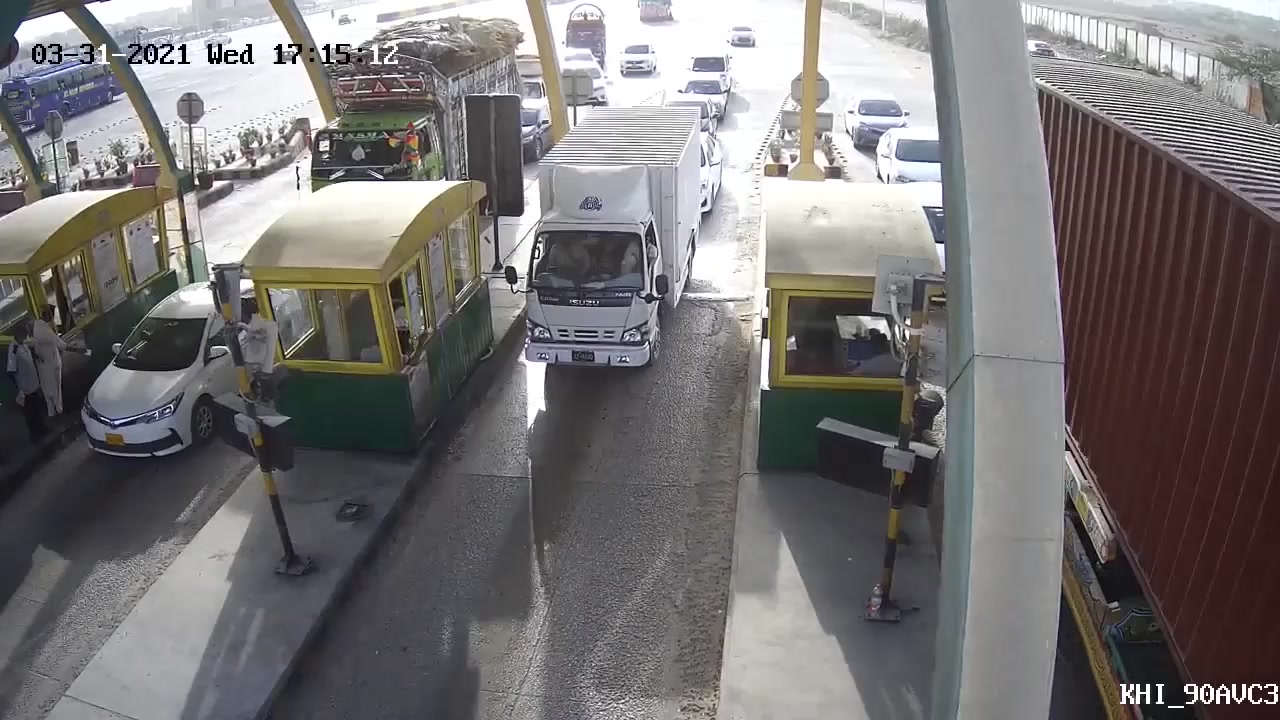F5: (509, 99, 700, 401)
